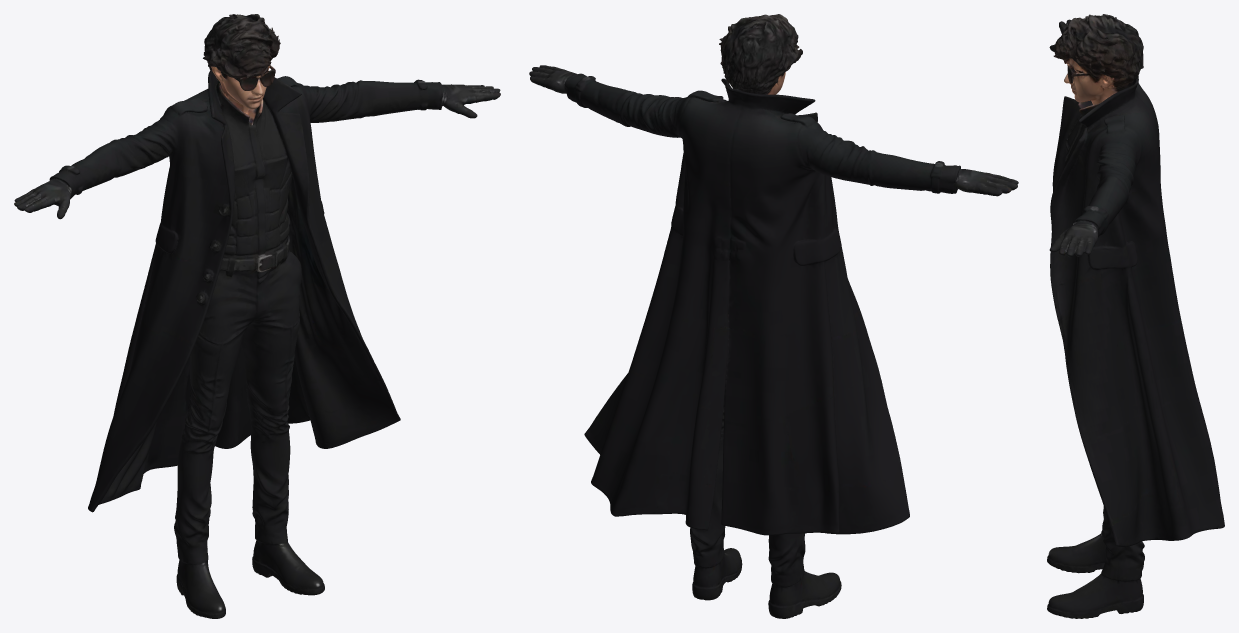
Rendered from kundan-avatar.glb.
3 renders of one model, left to right at view 1: azimuth 30°, elevation 25°; view 2: azimuth 150°, elevation 25°; view 3: azimuth 270°, elevation 25°, orthographic.
Parts seen in each view (by area): view 1: Mesh_0; view 2: Mesh_0; view 3: Mesh_0.
Part boxes in pixels (bbox=[...]): Mesh_0: bbox=[14, 14, 500, 618]; Mesh_0: bbox=[529, 14, 1018, 618]; Mesh_0: bbox=[1047, 14, 1224, 618].
Size of the model in its own units: 0.1059 by 0.12 by 0.0339.
Materials: 1 (1 with a texture image).
